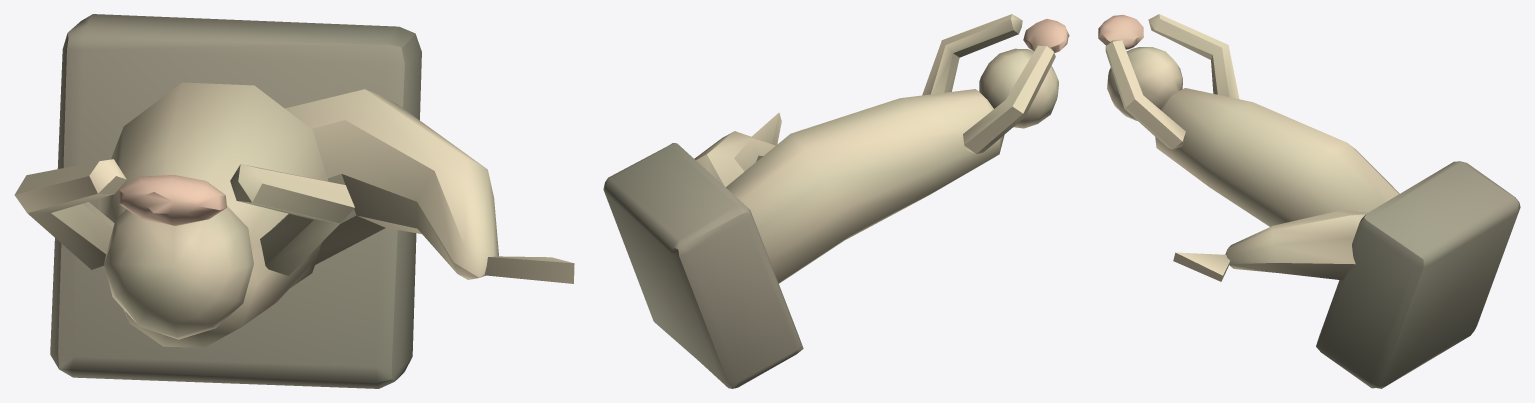
File: find_statue.glb
3 renders of one model, left to right at view 1: azimuth 30°, elevation 25°; view 2: azimuth 150°, elevation 25°; view 3: azimuth 270°, elevation 25°, orthographic. The views are drawn at different scales.
Parts seen in each view (by area): view 1: find_statue; view 2: find_statue; view 3: find_statue.
Boxes of the visible parts, box(x1,y1,x2,y2) form: find_statue: box(14, 14, 574, 388); find_statue: box(603, 14, 1069, 388); find_statue: box(1098, 14, 1520, 388).
Bounding box in the file's own units: 1.18 × 0.9451 × 1.43.
